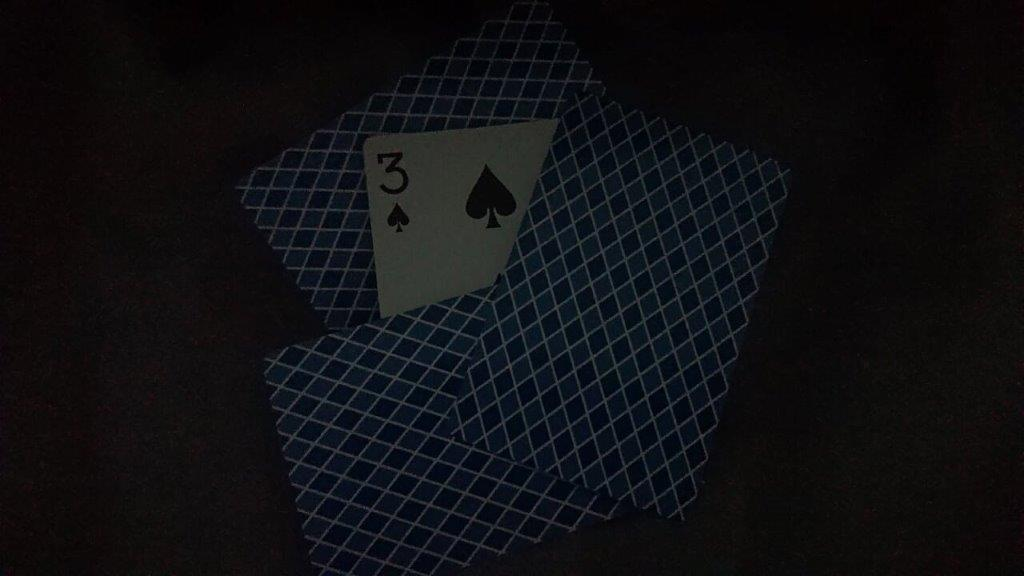3S: (360, 124, 491, 285)
BACK: (449, 89, 794, 525), (261, 301, 449, 576), (378, 1, 614, 90)
